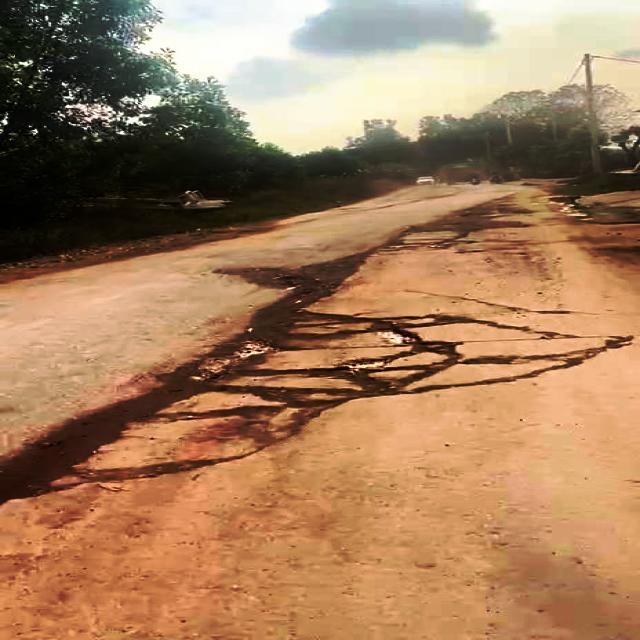pothole: (0, 316, 465, 504)
